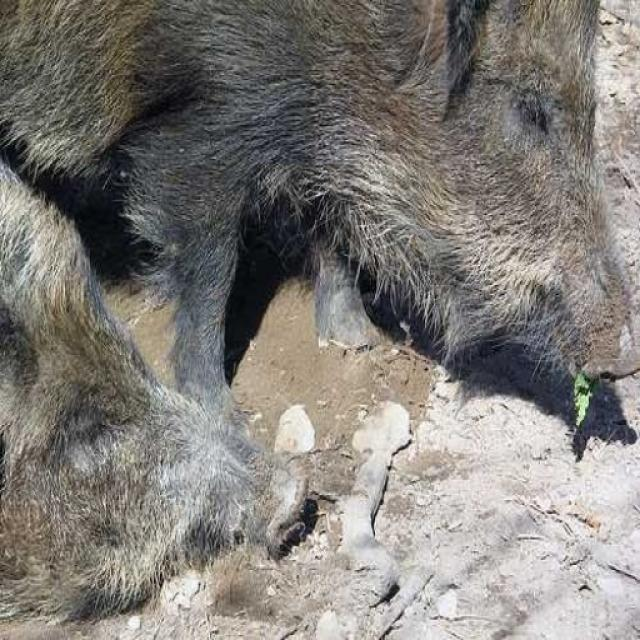pig: (8, 0, 639, 474), (21, 361, 300, 637)
